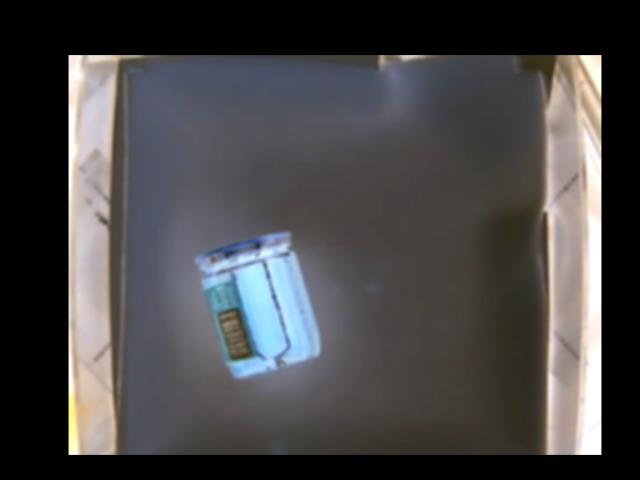Bottle: (193, 234, 320, 377)
